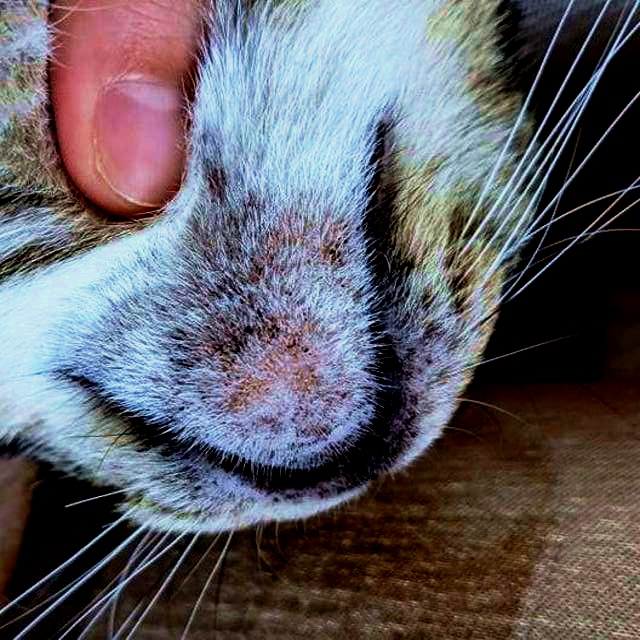acne: (163, 197, 357, 425)
